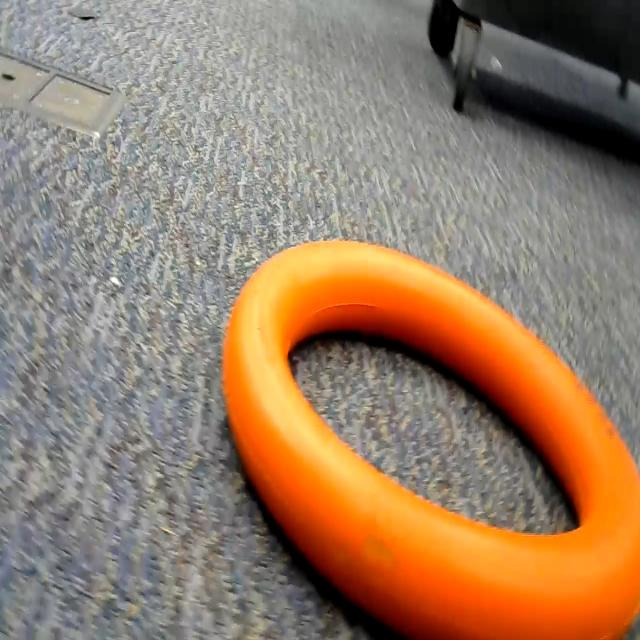note: (218, 221, 640, 640)
